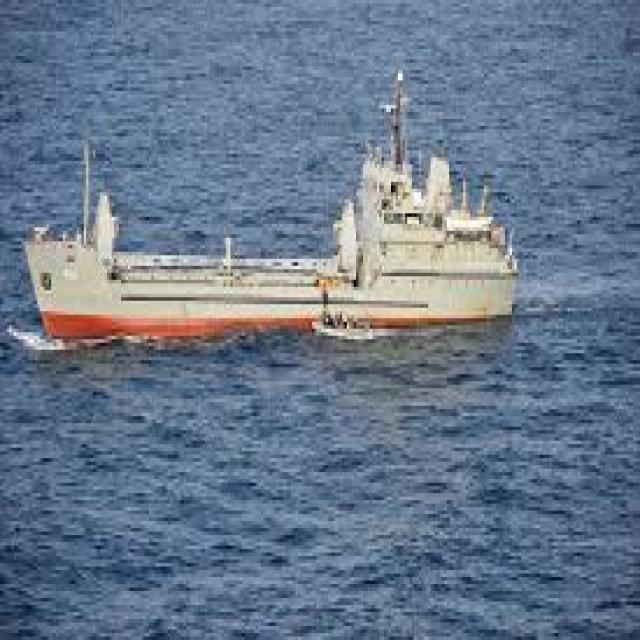navalvessels: (17, 88, 529, 330)
